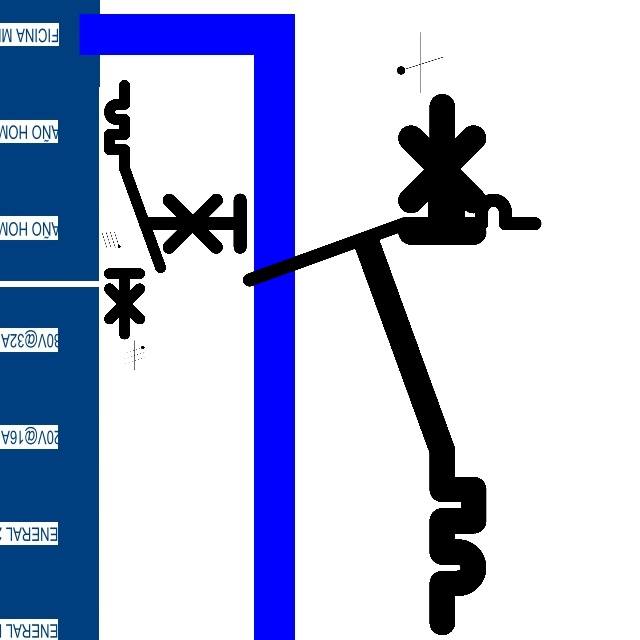interruptor_termomagnetico: (354, 93, 487, 636), (135, 190, 544, 290), (103, 79, 167, 341)
